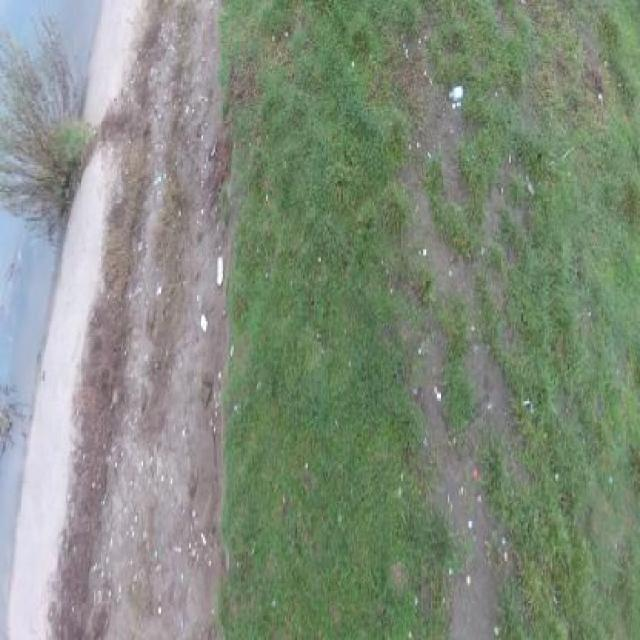Garbage: (447, 83, 465, 99), (217, 252, 223, 287), (198, 313, 208, 334)
